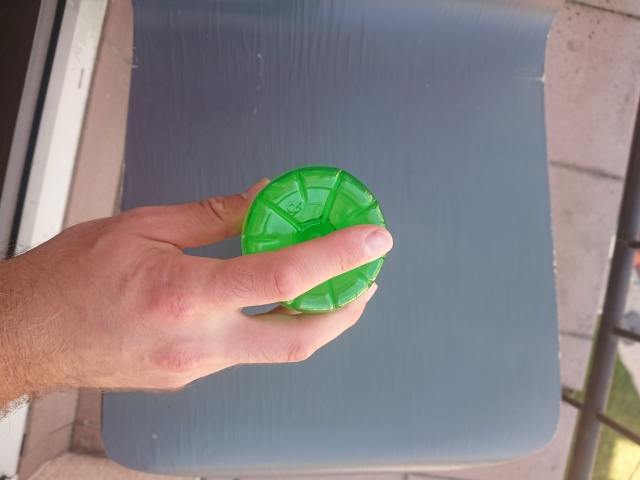Vindi Iso Sport Lemon-Grapefruit 500mL: (235, 162, 392, 319)
